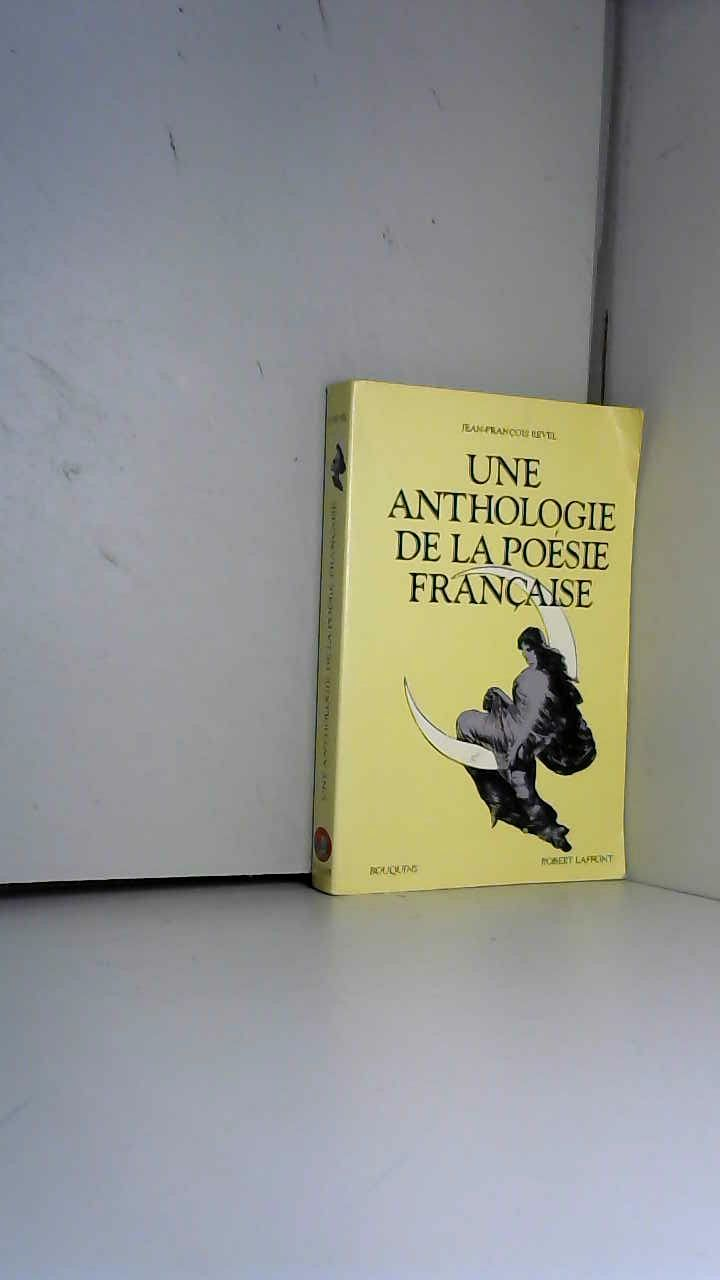book: (295, 368, 654, 910)
